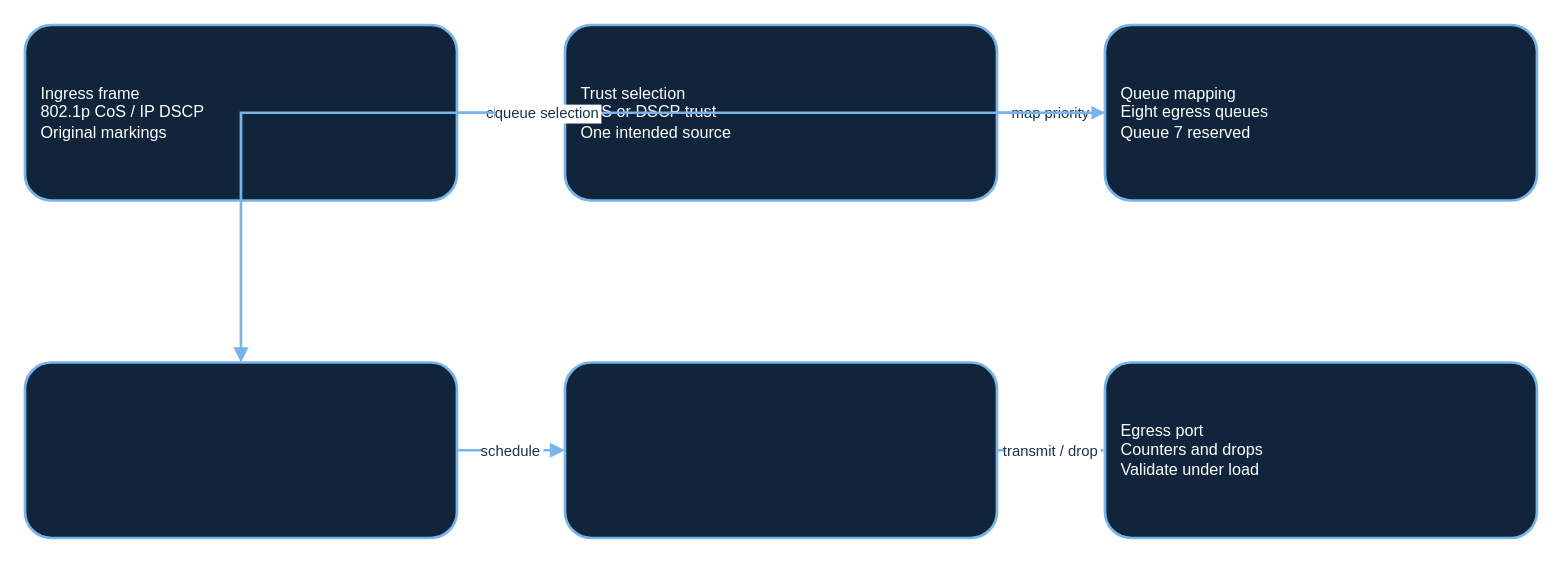
Image size: 1561x562. Some labels were removed from this diagram. Here are the shapes that lost their labels. From the top down, the box of each, then its label:
(23, 360, 458, 539): Scheduler Strict / RR / WRR Service order and weight
(563, 360, 998, 539): Congestion policy Tail-drop / RED / WRED Model-dependent features
